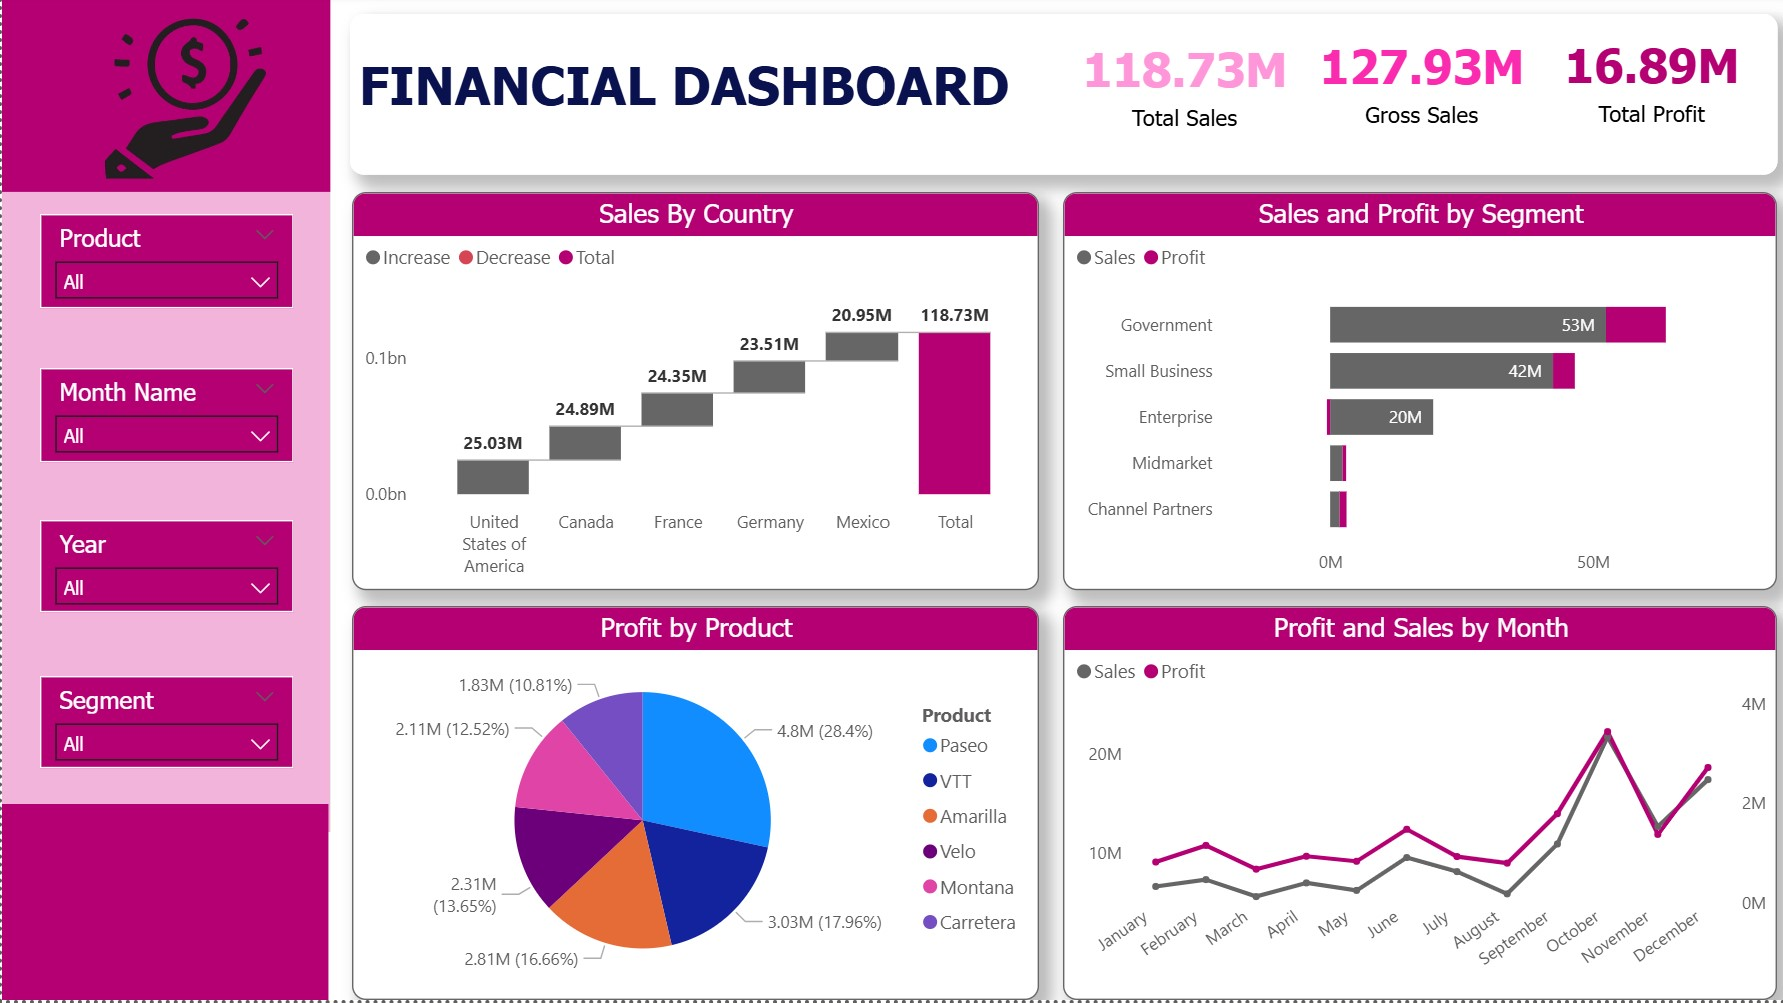

The dashboard page shown, as its layout file describes it:
{"tool":"powerbi","page":{"name":"Financial_Dashboard","canvas":[1280,720],"ordinal":0},"visuals":[{"type":"shape","box":[0,141.7,234.8,458.1],"z":0},{"type":"shape","box":[0,0,234.8,141.7],"z":1000},{"type":"shape","box":[248.4,13.6,1021,115.1],"z":2000},{"type":"textbox","box":[250.6,37.4,491,64.8],"z":3000},{"type":"card","fields":{"Values":["Sum(financials. Sales)"]},"box":[758.9,21.6,174.2,85],"z":4000},{"type":"card","fields":{"Values":["Sum(financials.Gross Sales)"]},"box":[933.1,21.6,164.2,80.6],"z":5000},{"type":"card","fields":{"Values":["Sum(financials.Profit)"]},"box":[1097.3,21.6,164.2,79.2],"z":6000},{"type":"waterfallChart","title":"Sales By Country","fields":{"Y":["Sum(financials. Sales)"],"Category":["financials.Country"]},"box":[250.6,141.1,491,285.1],"z":7000},{"type":"barChart","title":"Sales and Profit by Segment","fields":{"Category":["financials.Segment"],"Y":["Sum(financials. Sales)","Sum(financials.Profit)"]},"box":[758.6,141.7,511,284.9],"z":8000},{"type":"pieChart","title":"Profit by Product","fields":{"Y":["Sum(financials.Profit)"],"Category":["financials.Product"]},"box":[250.6,437.8,491,282.2],"z":9000},{"type":"lineChart","title":"Profit and Sales by Month","fields":{"Category":["financials.Date.Variation.Date Hierarchy.Month"],"Y":["Sum(financials. Sales)"],"Y2":["Sum(financials.Profit)"]},"box":[758.6,438,511,282],"z":10000},{"type":"slicer","title":"titl","fields":{"Values":["financials.Product"]},"box":[27.2,157.3,181.4,67.7],"z":11000},{"type":"slicer","fields":{"Values":["financials.Month Name"]},"box":[27.2,268.2,181.4,67.7],"z":12000},{"type":"slicer","fields":{"Values":["financials.Year"]},"box":[27.2,376.2,181.4,66.2],"z":13000},{"type":"slicer","fields":{"Values":["financials.Segment"]},"box":[27.2,488.5,181.4,66.2],"z":14000},{"type":"image","box":[57.3,0,141.7,141.7],"z":15000},{"type":"shape","box":[0,579.3,233.6,141],"z":15001}]}

Visuals, with their boxes in screenshot pixels (x1, y1, x2, y2), scaled from the page's 1280x720 canvas onto the 1783x1003 screenshot:
shape: (left=0, top=197, right=327, bottom=836)
shape: (left=0, top=0, right=327, bottom=197)
shape: (left=346, top=19, right=1768, bottom=179)
textbox: (left=349, top=52, right=1033, bottom=142)
card - Sum(financials. Sales): (left=1057, top=30, right=1300, bottom=148)
card - Sum(financials.Gross Sales): (left=1300, top=30, right=1529, bottom=142)
card - Sum(financials.Profit): (left=1529, top=30, right=1757, bottom=140)
"Sales By Country" waterfallChart: (left=349, top=197, right=1033, bottom=594)
"Sales and Profit by Segment" barChart: (left=1057, top=197, right=1769, bottom=594)
"Profit by Product" pieChart: (left=349, top=610, right=1033, bottom=1002)
"Profit and Sales by Month" lineChart: (left=1057, top=610, right=1769, bottom=1002)
"titl" slicer: (left=38, top=219, right=291, bottom=313)
slicer - financials.Month Name: (left=38, top=374, right=291, bottom=468)
slicer - financials.Year: (left=38, top=524, right=291, bottom=616)
slicer - financials.Segment: (left=38, top=681, right=291, bottom=773)
image: (left=80, top=0, right=277, bottom=197)
shape: (left=0, top=807, right=325, bottom=1002)
